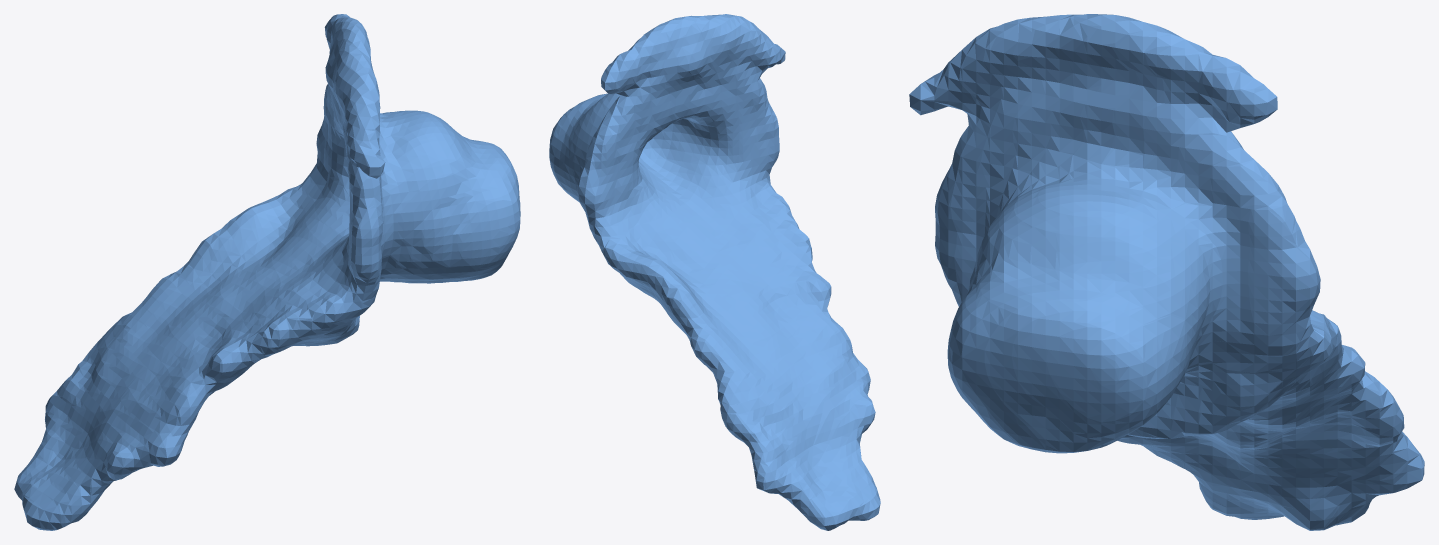
The model's file is water_0029.glb.
3 views of the same model, side by side, from view 1: azimuth 30°, elevation 25°; view 2: azimuth 150°, elevation 25°; view 3: azimuth 270°, elevation 25° (orthographic). The views are drawn at different scales.
Visible parts, largest first — view 1: Water_0029; view 2: Water_0029; view 3: Water_0029.
Part boxes in pixels (left/top/right/bottom): Water_0029: left=14, top=14, right=520, bottom=530; Water_0029: left=549, top=14, right=880, bottom=530; Water_0029: left=909, top=14, right=1424, bottom=530.
Size of the model in its own units: 2.98 by 3.18 by 2.16.
